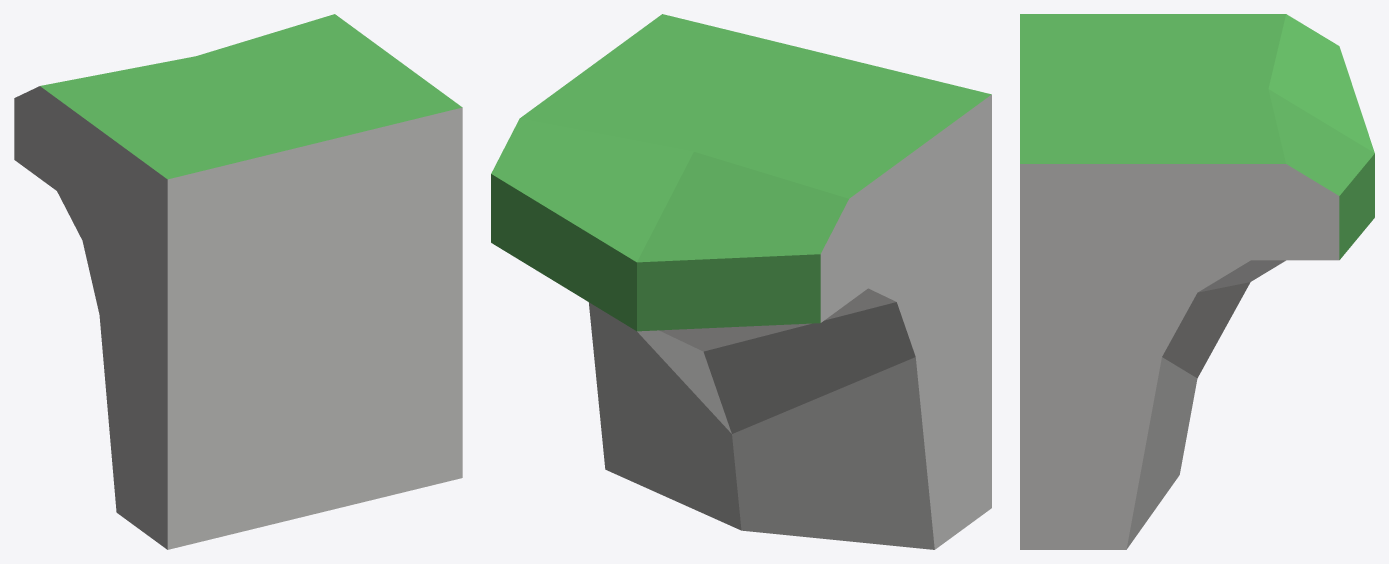
Rendered from Cliff_Top_Straight.glb.
3 views of the same model, side by side, from view 1: azimuth 30°, elevation 25°; view 2: azimuth 150°, elevation 25°; view 3: azimuth 270°, elevation 25° (orthographic). The views are drawn at different scales.
Parts seen in each view (by area): view 1: object1; view 2: object1; view 3: object1.
Boxes of the visible parts, x1,y1,x2,y2 form: object1: (14, 14, 462, 549); object1: (491, 14, 991, 549); object1: (1020, 14, 1374, 549).
Size of the model in its own units: 1 by 1.2 by 1.
